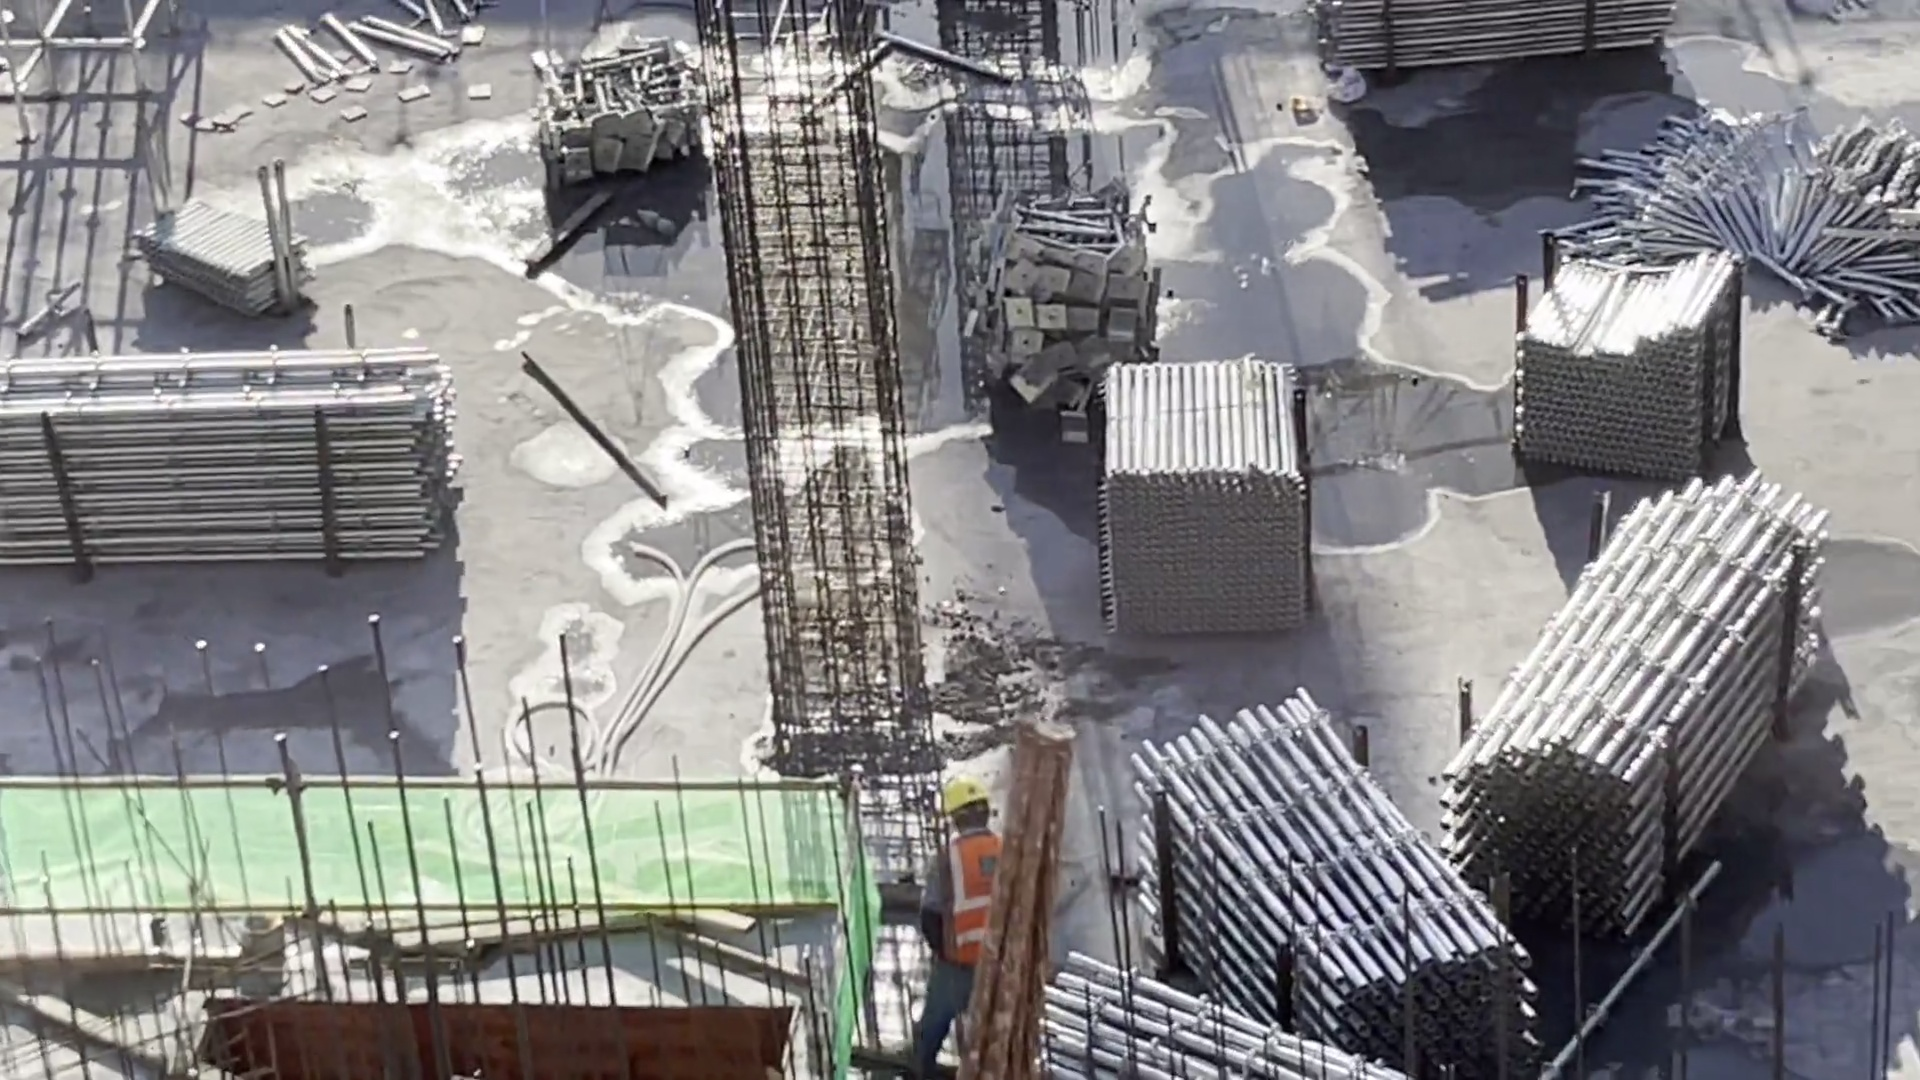helmet: (947, 775, 985, 810)
person: (903, 779, 1025, 1080)
scaffold: (1475, 479, 1820, 963), (1164, 719, 1479, 1017), (1, 363, 451, 563), (1092, 358, 1316, 652), (1623, 129, 1920, 323), (1525, 241, 1735, 485), (107, 168, 311, 309), (1319, 1, 1681, 67), (1095, 975, 1320, 1080)
vest: (940, 839, 1015, 966)
